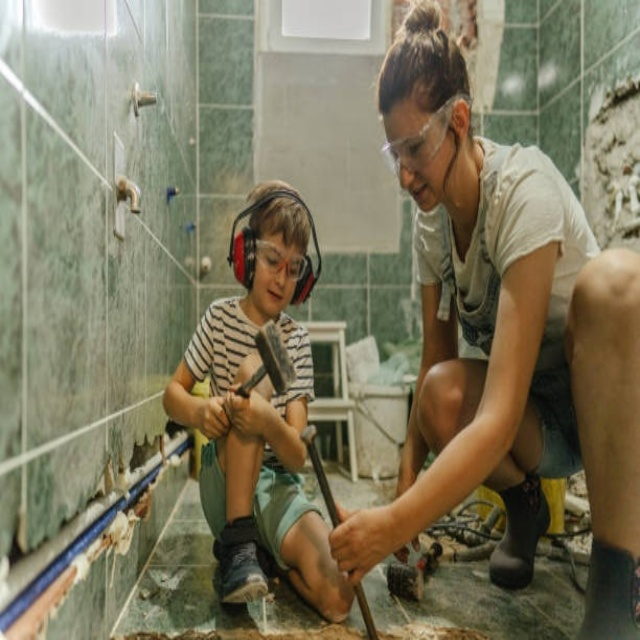Gafas: (379, 96, 462, 183), (254, 238, 306, 280)
Sin_guantes: (324, 503, 390, 579), (198, 392, 240, 442)
Sin_mascara: (399, 177, 437, 216), (260, 279, 285, 311)
